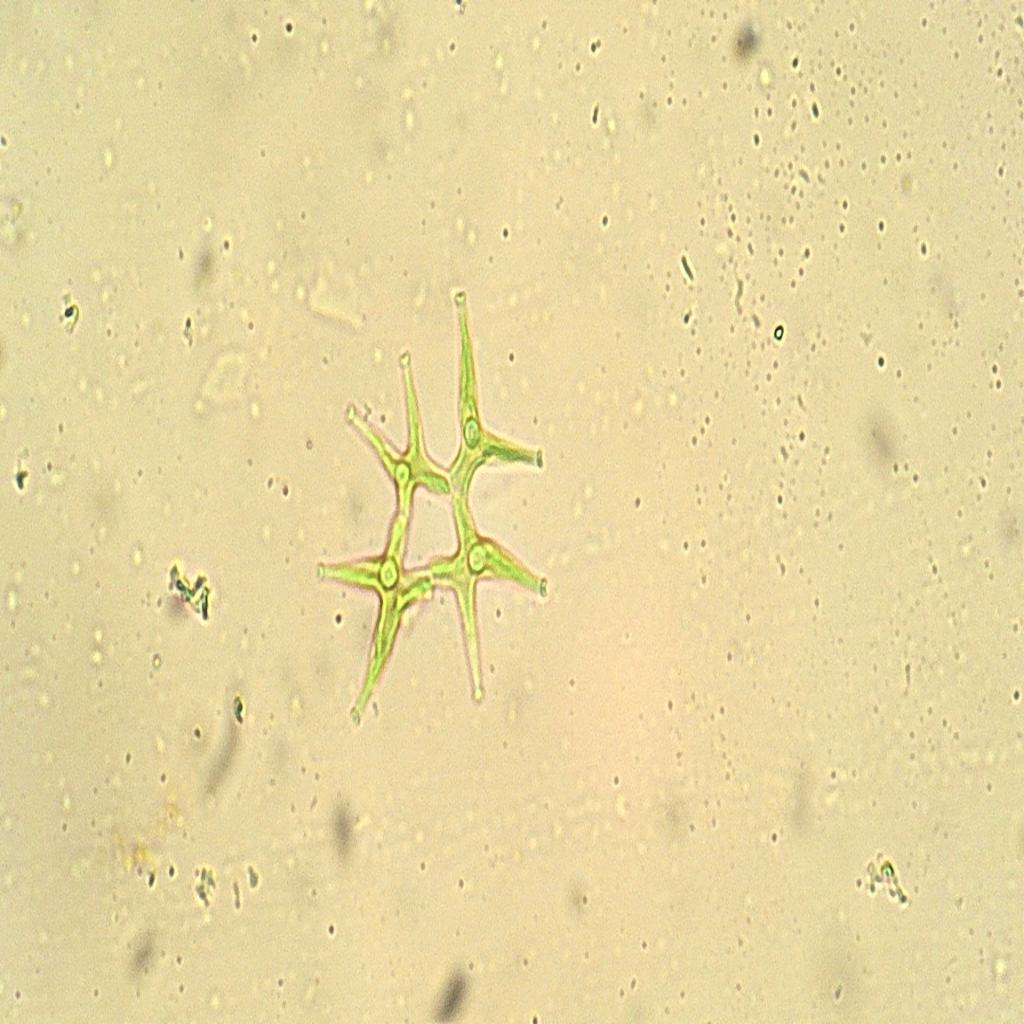Pediastrum_75FI: (309, 257, 560, 765)
